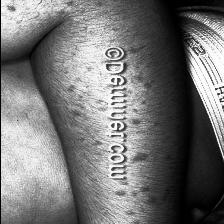Toxin: (135, 184, 157, 204), (128, 150, 152, 167)
